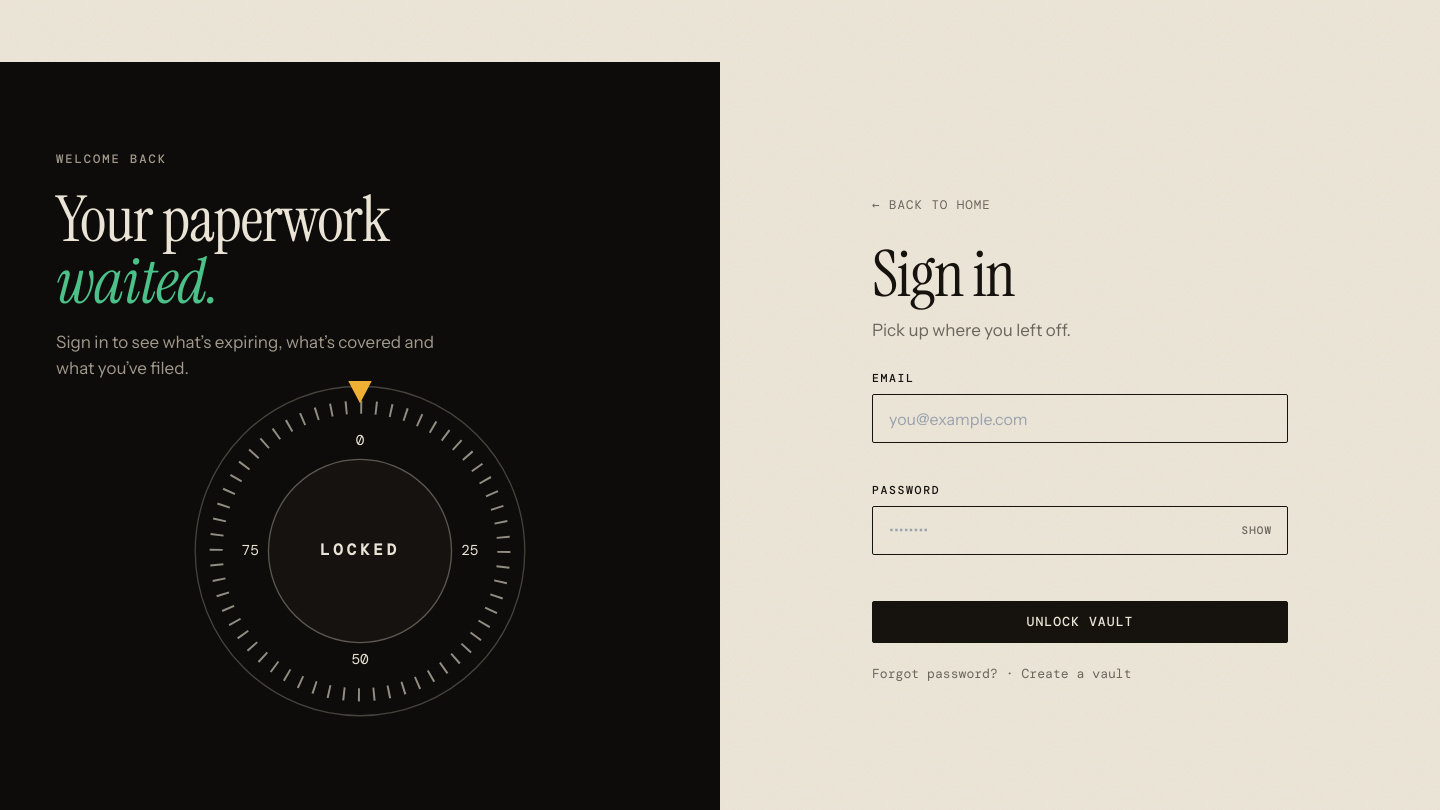
Test: Authentication Flow & Verification (Email & Password) › Checklist 2: Enforces strict email format validation
// Malformed email
Type "not-an-email" into the field with placeholder "you@example.com".
click(1080, 419); type("not-an-email")  # box [872,394,1288,443]
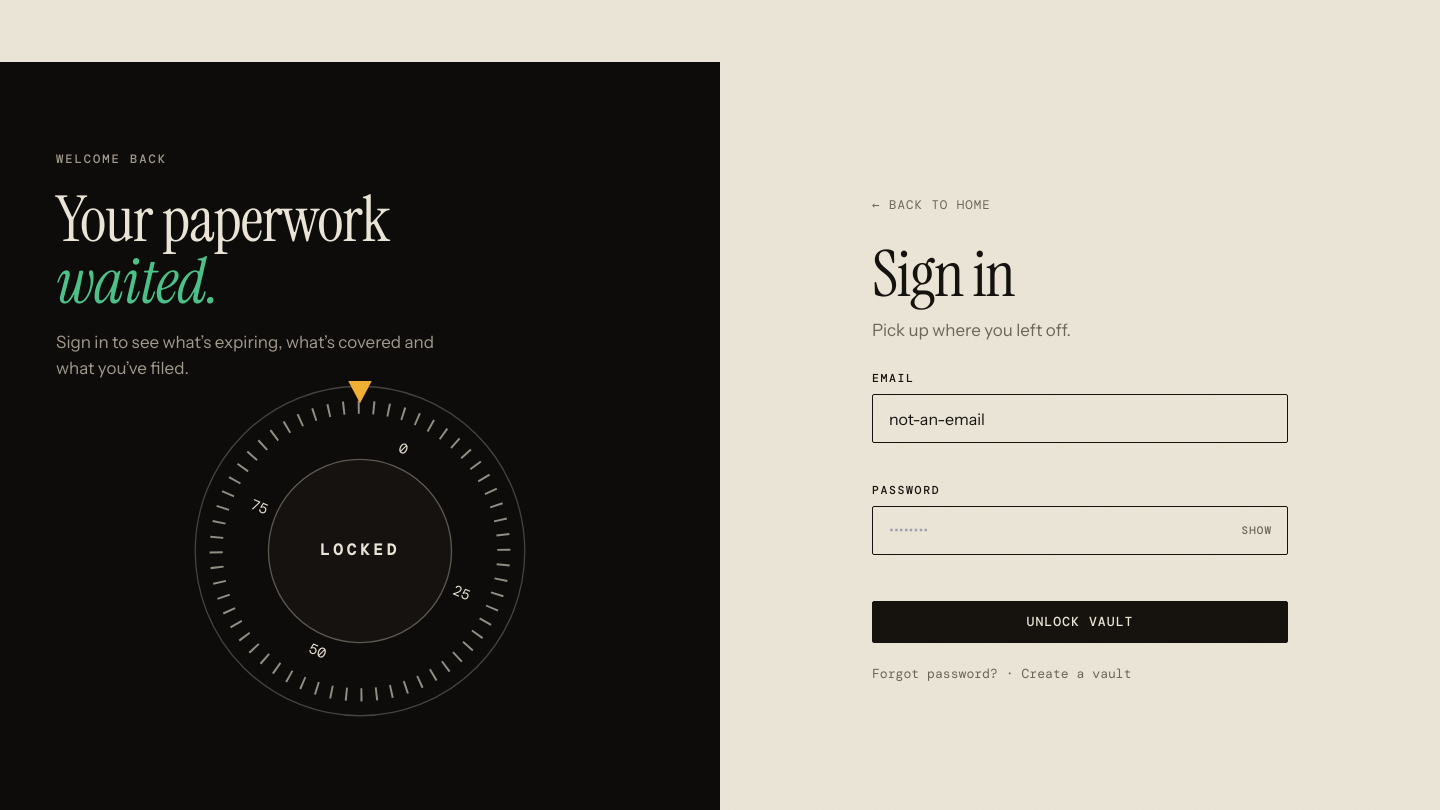
Click the button "Unlock vault".
click(1080, 622)  # box [872,600,1288,643]
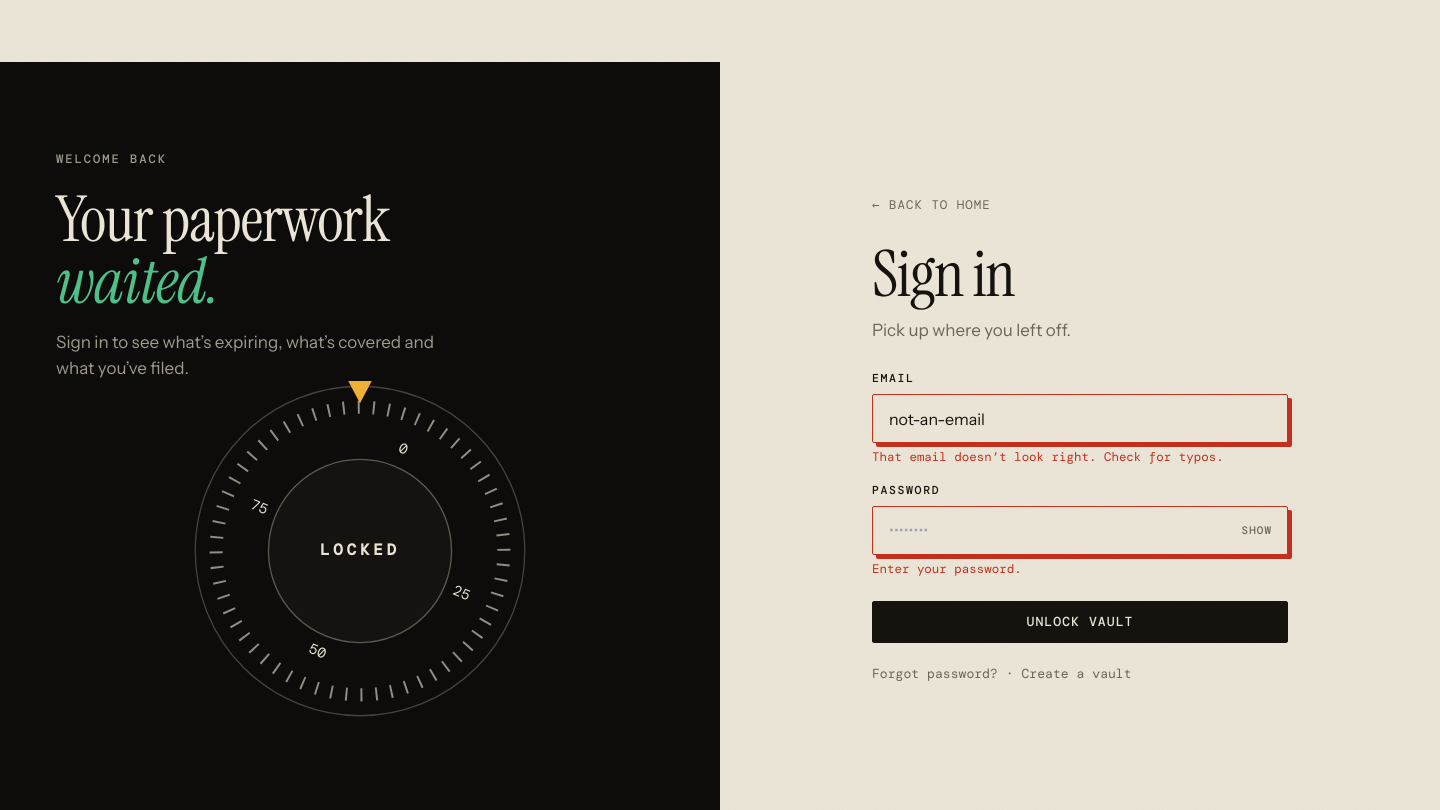
expect the text "That email doesn’t look right. Check for typos." is shown: met, box [872,449,1224,465]
